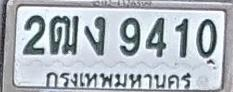0: (196, 18, 217, 58)
1: (174, 18, 188, 58)
2: (22, 14, 45, 54)
4: (146, 16, 166, 57)
9: (120, 16, 140, 56)
A07: (84, 16, 106, 56)
A18: (49, 14, 79, 54)
BKK: (45, 71, 192, 92)
